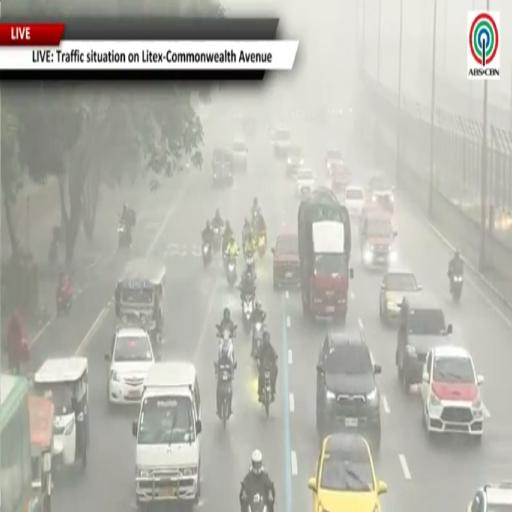bus: (0, 375, 32, 511)
car: (316, 329, 381, 451), (308, 434, 387, 511), (421, 346, 484, 439), (396, 292, 452, 392), (105, 328, 158, 405), (379, 269, 422, 323), (360, 210, 397, 268), (272, 234, 300, 290), (468, 482, 511, 511), (369, 175, 395, 213), (212, 148, 233, 186), (344, 186, 366, 218), (330, 160, 352, 191), (368, 174, 393, 199), (273, 126, 291, 158), (286, 146, 304, 177), (231, 139, 248, 171), (296, 168, 314, 198), (325, 150, 342, 175), (242, 114, 256, 137)
jeepney: (34, 357, 89, 469), (115, 258, 166, 344), (29, 395, 54, 511)
motorcycle: (218, 365, 232, 428), (242, 293, 254, 334), (243, 491, 267, 511), (252, 323, 264, 359), (263, 368, 271, 418), (57, 291, 72, 315), (118, 223, 132, 248), (451, 275, 463, 302), (226, 256, 236, 286), (212, 226, 222, 254), (48, 238, 58, 265), (245, 254, 255, 275), (202, 243, 211, 266), (258, 233, 266, 258)
truck: (298, 187, 353, 323)
